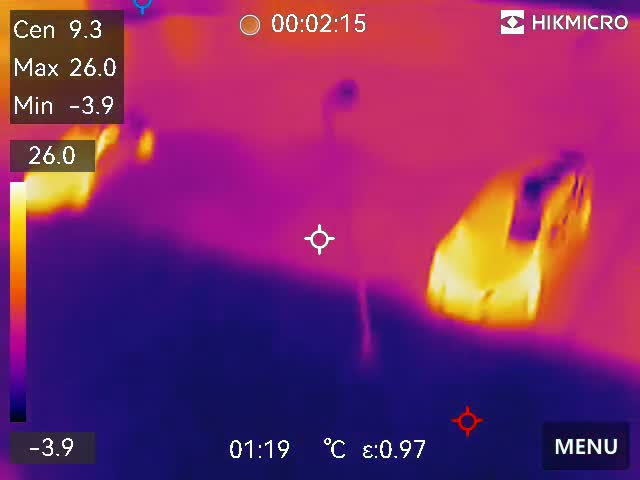smallCar: (420, 124, 600, 344), (10, 103, 165, 209)
